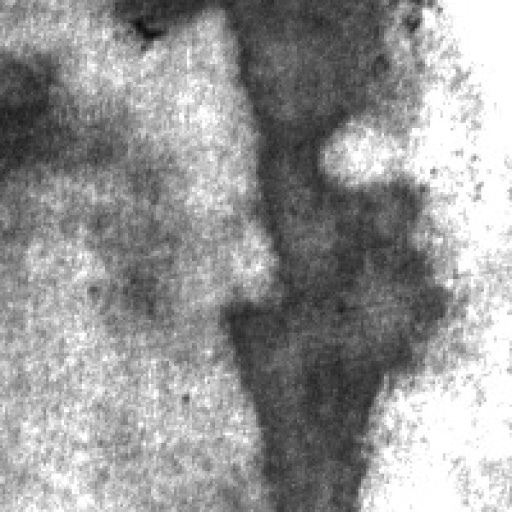patches: (202, 150, 472, 512), (108, 2, 465, 156), (3, 34, 113, 208)
